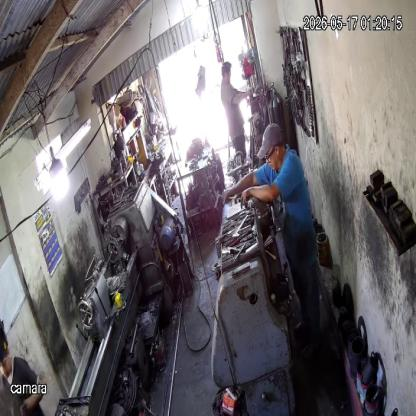lentes: (262, 144, 277, 165)
